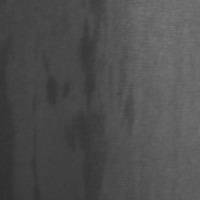inclusion: (73, 8, 111, 199), (1, 44, 18, 196), (38, 40, 70, 115), (117, 76, 144, 143), (25, 120, 44, 199)
